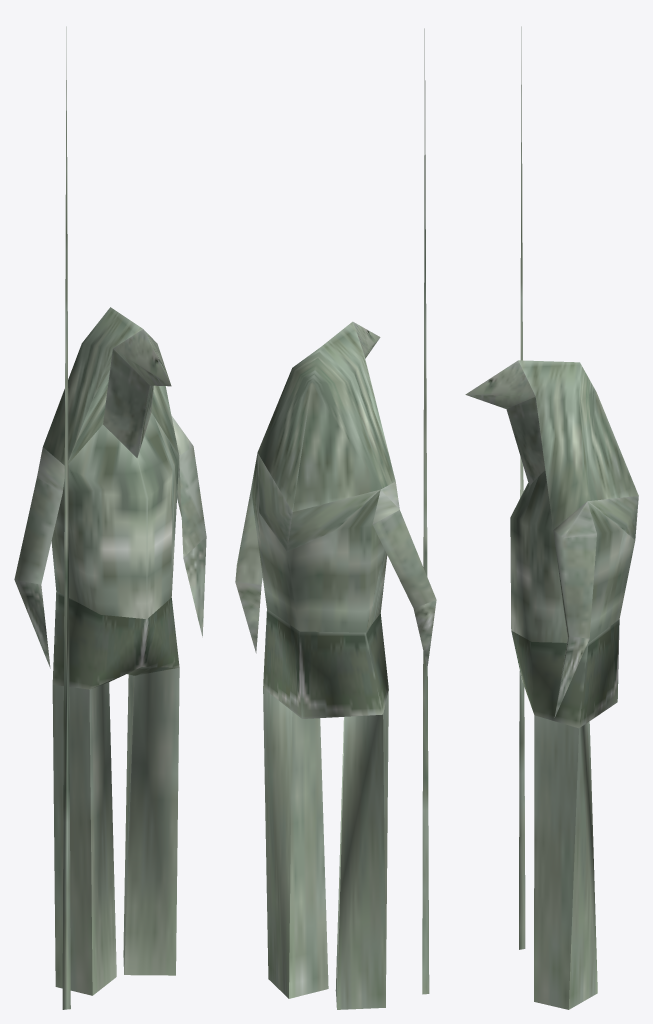
File: thm_nboo_gungan_statue_s03_l3.fbx
The picture shows the model from 3 angles, left to right: view 1: azimuth 30°, elevation 25°; view 2: azimuth 150°, elevation 25°; view 3: azimuth 270°, elevation 25°; orthographic projection. The views are drawn at different scales.
Parts seen in each view (by area): view 1: mesh_node; view 2: mesh_node; view 3: mesh_node.
Part boxes in pixels (left/top/right/bottom): mesh_node: left=14, top=26, right=206, bottom=1009; mesh_node: left=235, top=28, right=436, bottom=1009; mesh_node: left=465, top=26, right=638, bottom=1009.
Size of the model in its own units: 1.13 by 5.45 by 0.9183.
